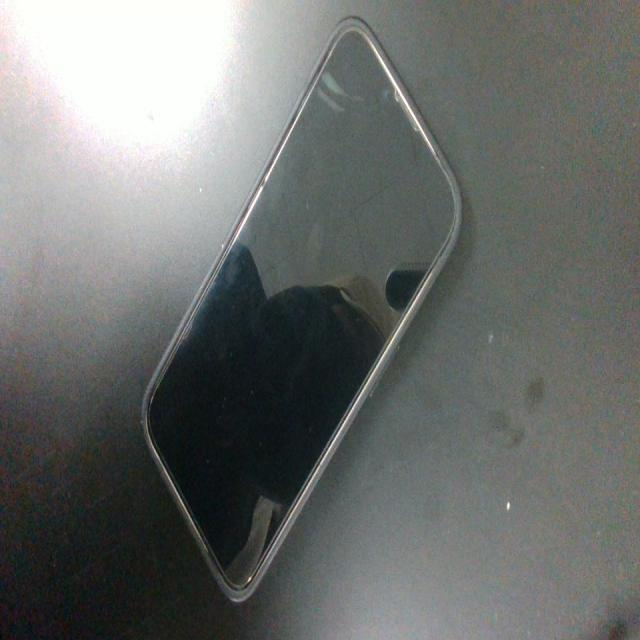phone: (110, 0, 481, 620)
